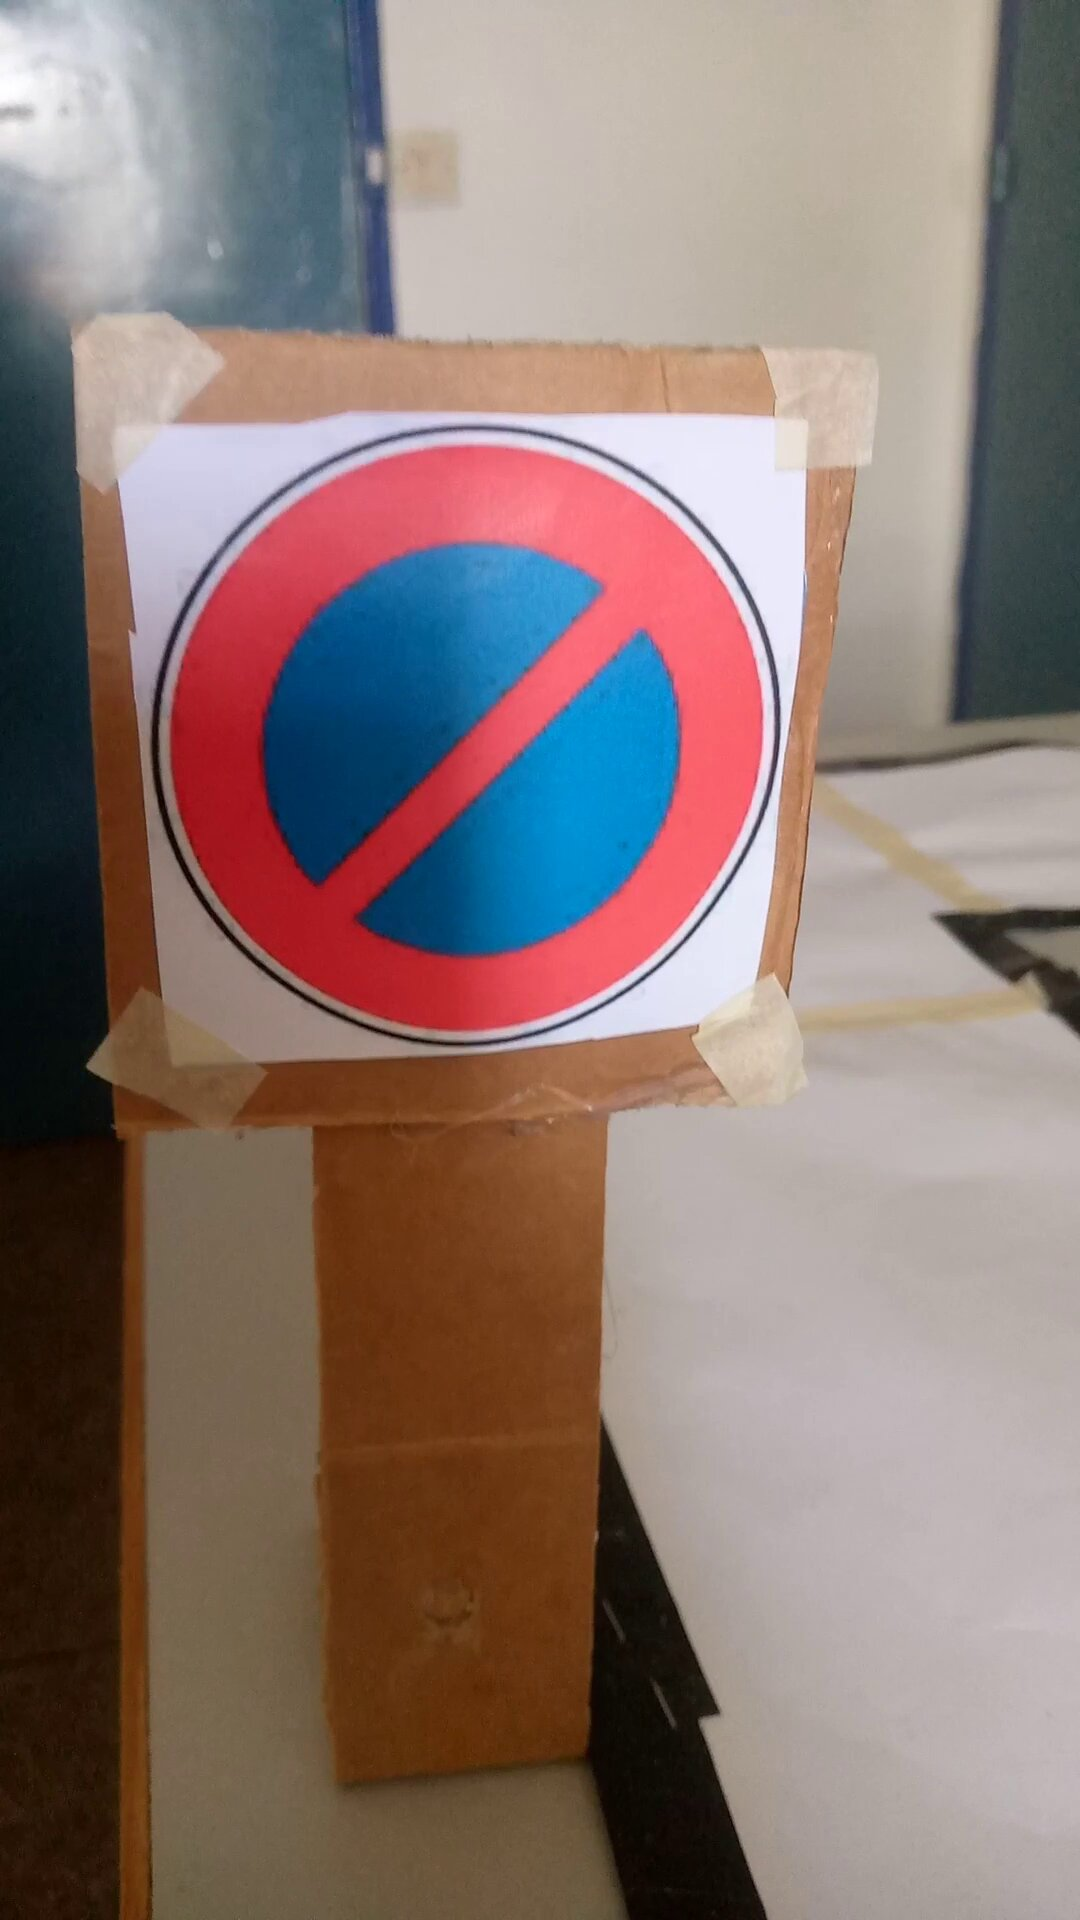panel110: (113, 411, 778, 1036)
